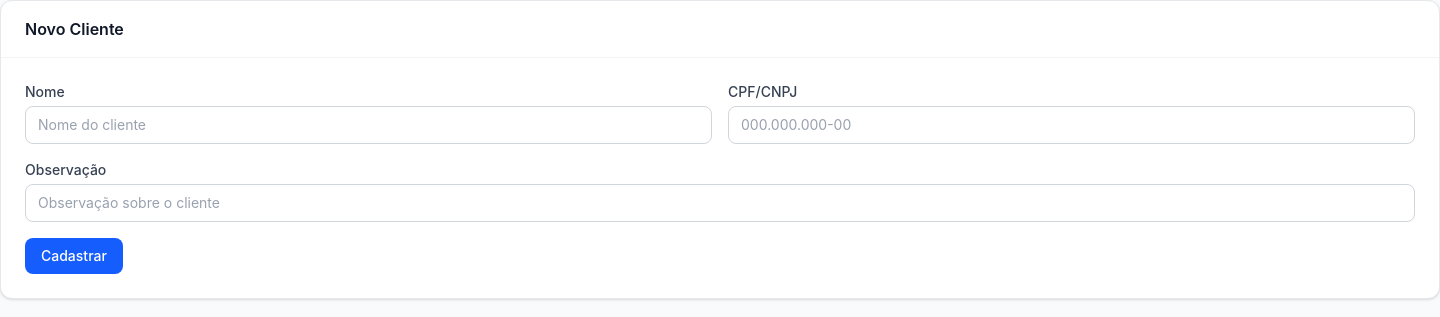
Test: ClienteForm › should mask the cpfCnpj field while typing
In the field labelled "CPF/CNPJ": (1072, 125) [728, 106, 1415, 144], type "12345678900"
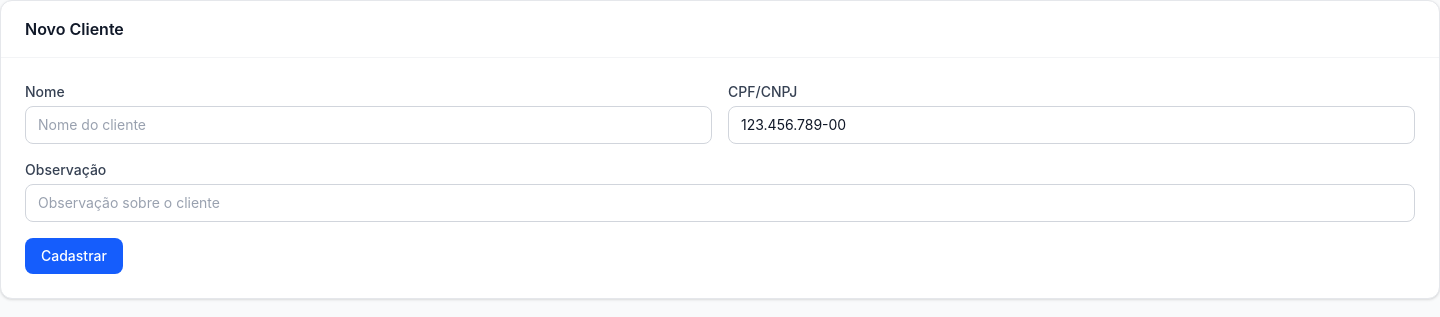
Check: the field labelled "CPF/CNPJ" holds "123.456.789-00", box [728, 106, 1415, 144]
